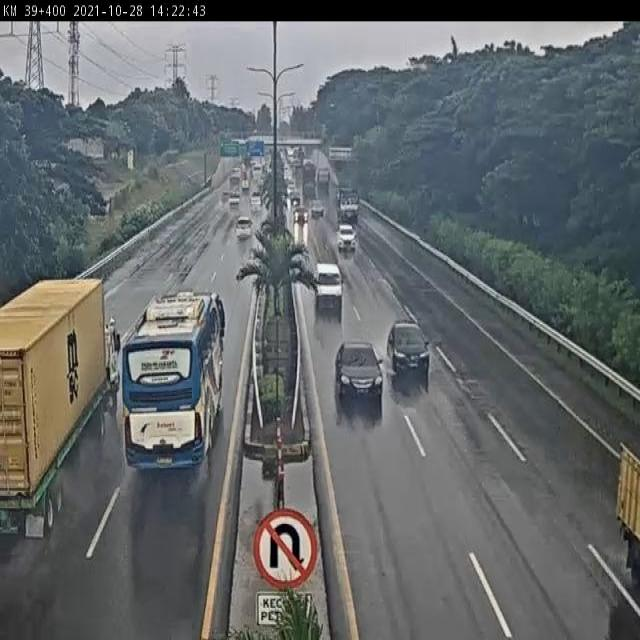Bus: (115, 290, 229, 490)
Car: (384, 309, 432, 399), (333, 340, 381, 406), (313, 263, 343, 314), (336, 223, 356, 252), (235, 217, 253, 240), (293, 205, 309, 226), (310, 200, 326, 218)
Truck: (0, 268, 110, 536)
